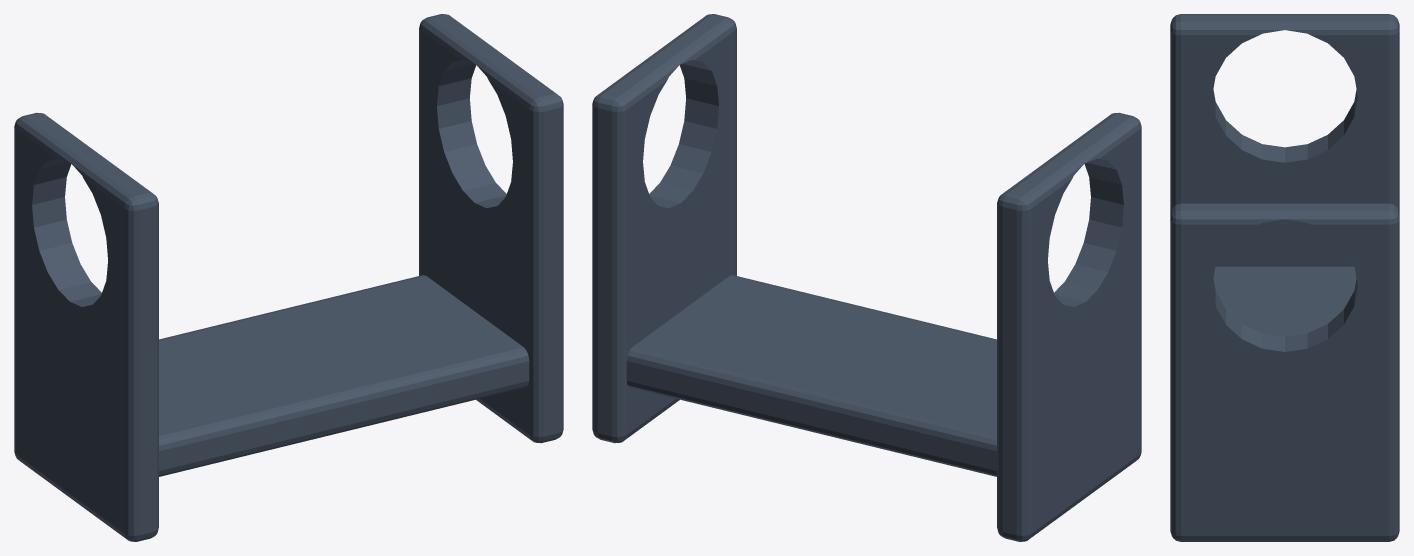
Rendered from modular_leg_bracket.obj.
3 views of the same model, side by side, from view 1: azimuth 30°, elevation 25°; view 2: azimuth 150°, elevation 25°; view 3: azimuth 270°, elevation 25° (orthographic). The views are drawn at different scales.
Visible parts, largest first — view 1: modular_leg_bracket; view 2: modular_leg_bracket; view 3: modular_leg_bracket.
Boxes of the visible parts, box(x1,y1,x2,y2) form: modular_leg_bracket: box(14, 14, 563, 541); modular_leg_bracket: box(592, 14, 1141, 541); modular_leg_bracket: box(1170, 14, 1399, 541).
Bounding box in the file's own units: 0.093 × 0.07 × 0.044.
